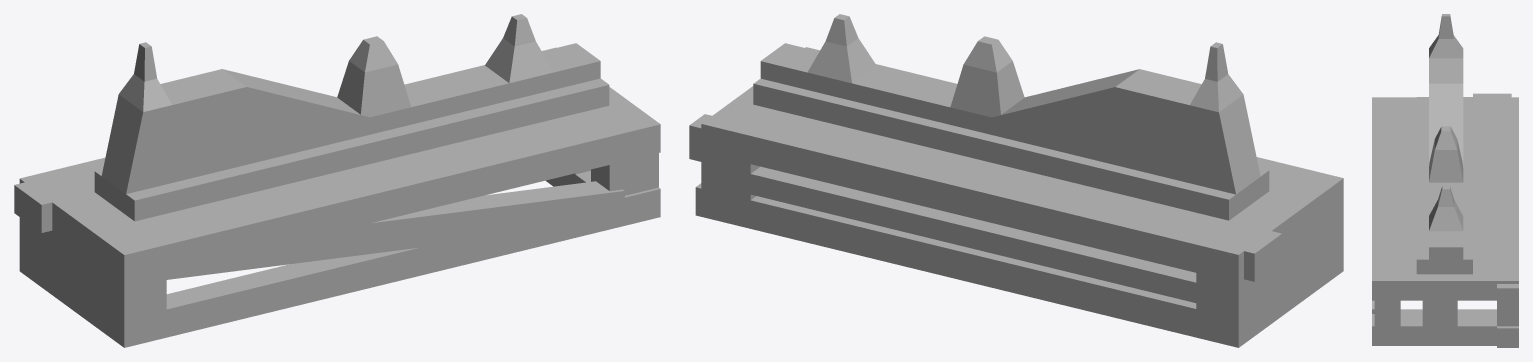
Rendered from JumpDrive_Large_Constr3.fbx.
3 views of the same model, side by side, from view 1: azimuth 30°, elevation 25°; view 2: azimuth 150°, elevation 25°; view 3: azimuth 270°, elevation 25° (orthographic). The views are drawn at different scales.
Visible parts, largest first — view 1: Cube.004; view 2: Cube.004; view 3: Cube.004.
Boxes of the visible parts, left/top/right/bottom form: Cube.004: left=14, top=14, right=660, bottom=347; Cube.004: left=689, top=14, right=1343, bottom=347; Cube.004: left=1372, top=14, right=1518, bottom=347.
Size of the model in its own units: 7.66 by 3.22 by 2.49.
